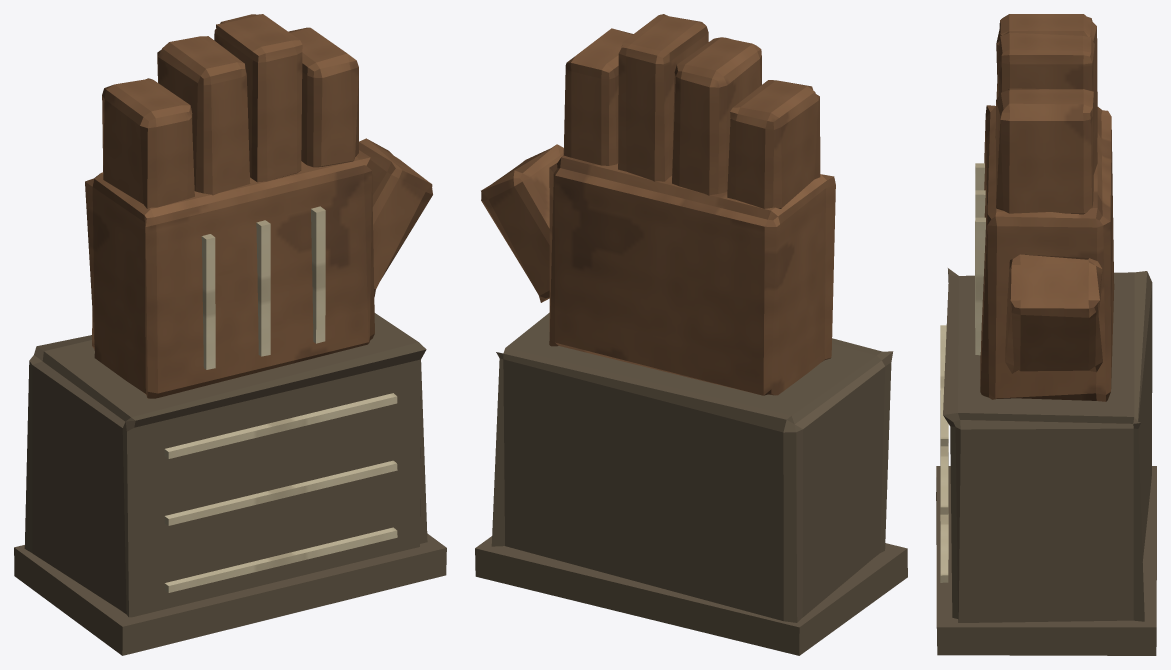
The model's file is leather_gloves.glb.
3 views of the same model, side by side, from view 1: azimuth 30°, elevation 25°; view 2: azimuth 150°, elevation 25°; view 3: azimuth 270°, elevation 25° (orthographic).
Visible parts, largest first — view 1: LeatherGloves; view 2: LeatherGloves; view 3: LeatherGloves.
Boxes of the visible parts, bbox=[...] form: LeatherGloves: bbox=[14, 14, 446, 655]; LeatherGloves: bbox=[475, 14, 907, 655]; LeatherGloves: bbox=[936, 14, 1156, 655].
Size of the model in its own units: 0.4311 by 0.6381 by 0.2301.
3 materials, 2 textured.
